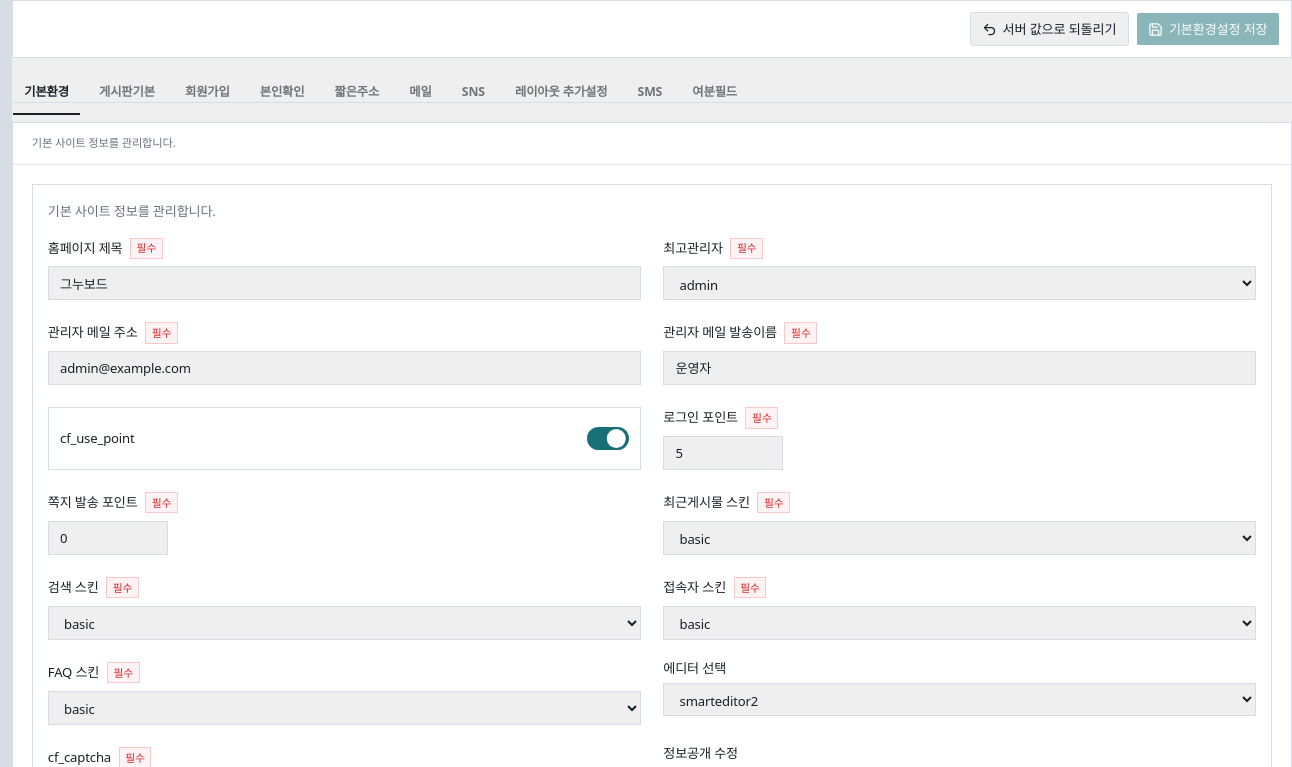
Scenario: AdminConfigPage validation › shows validation feedback for invalid admin email before save
The image size is (1292, 767).
Type "invalid-email" into the field labelled "관리자 메일 주소" at {"x": 344, "y": 368}, box top-left (48, 351), bottom-right (641, 385)
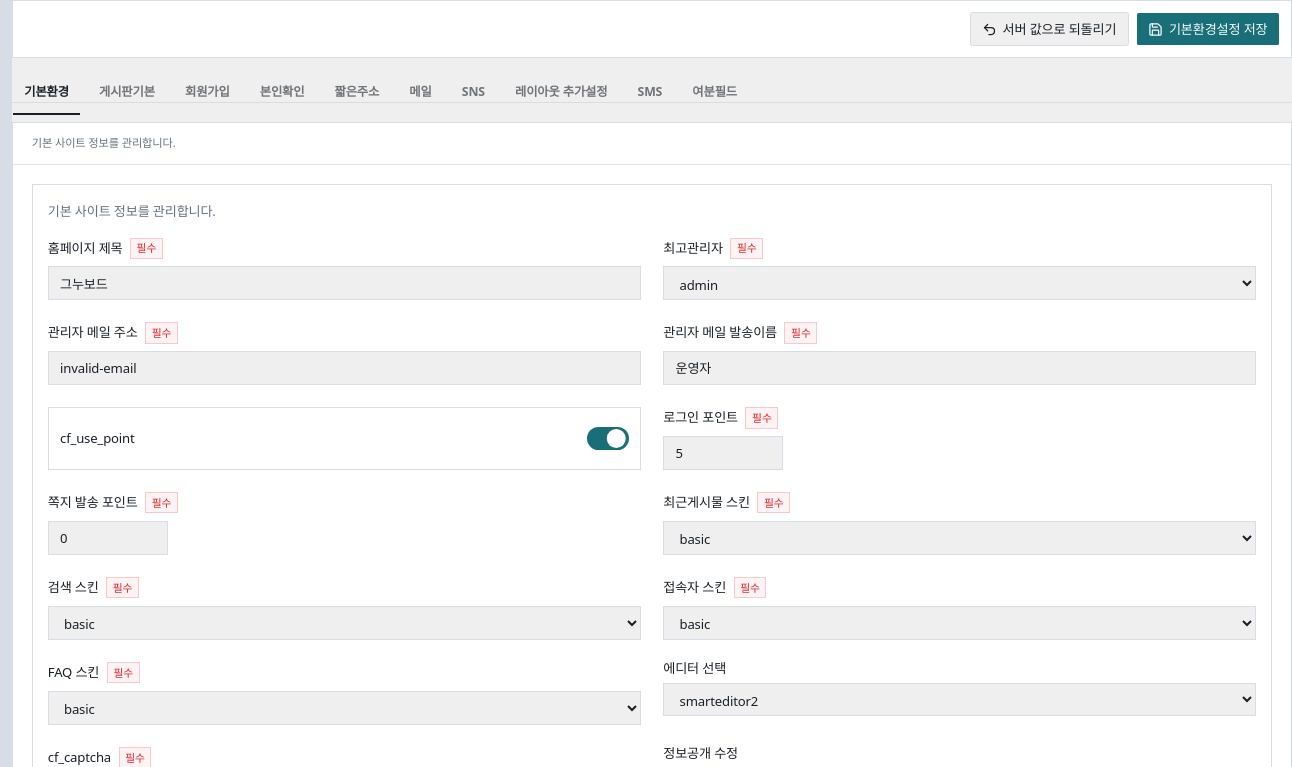
Click the button "기본환경설정 저장" at {"x": 1208, "y": 29}, box top-left (1136, 12), bottom-right (1280, 46)
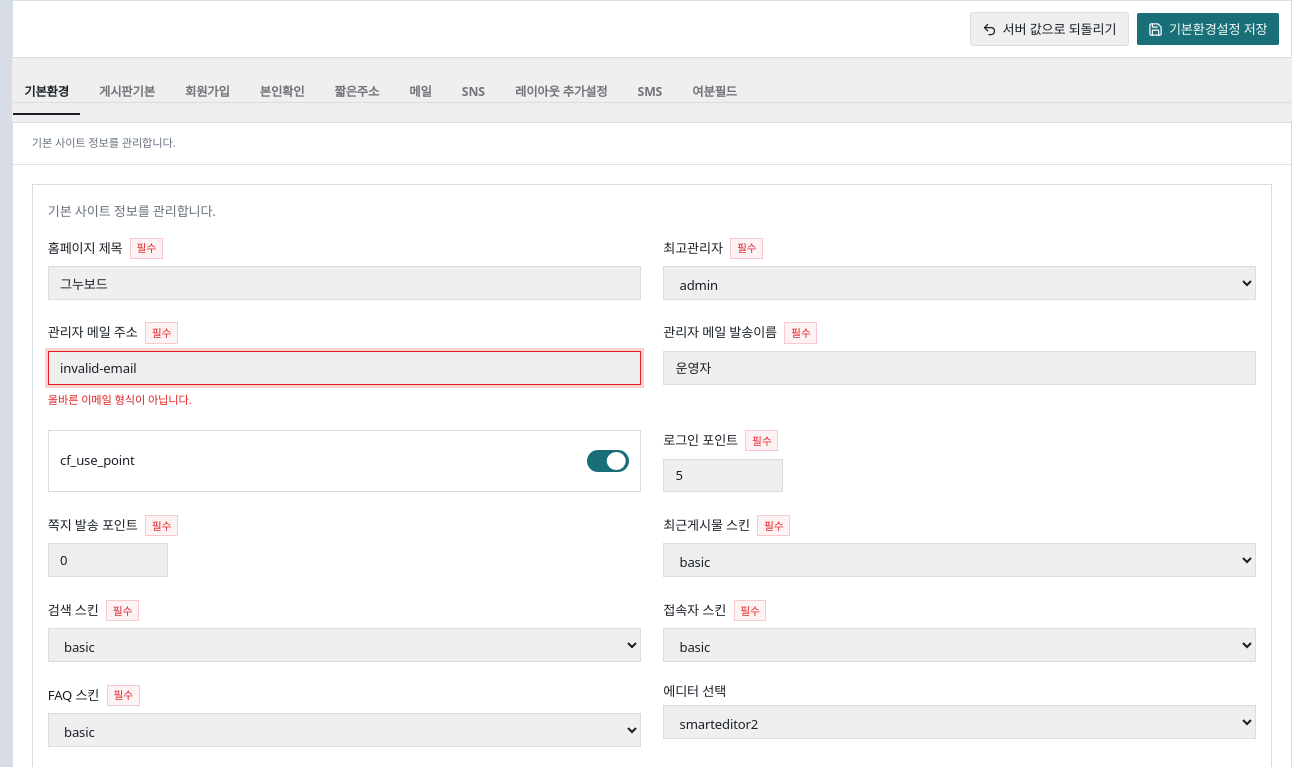
Now the text "올바른 이메일 형식이 아닙니다." is shown, box top-left (48, 392), bottom-right (192, 407)
